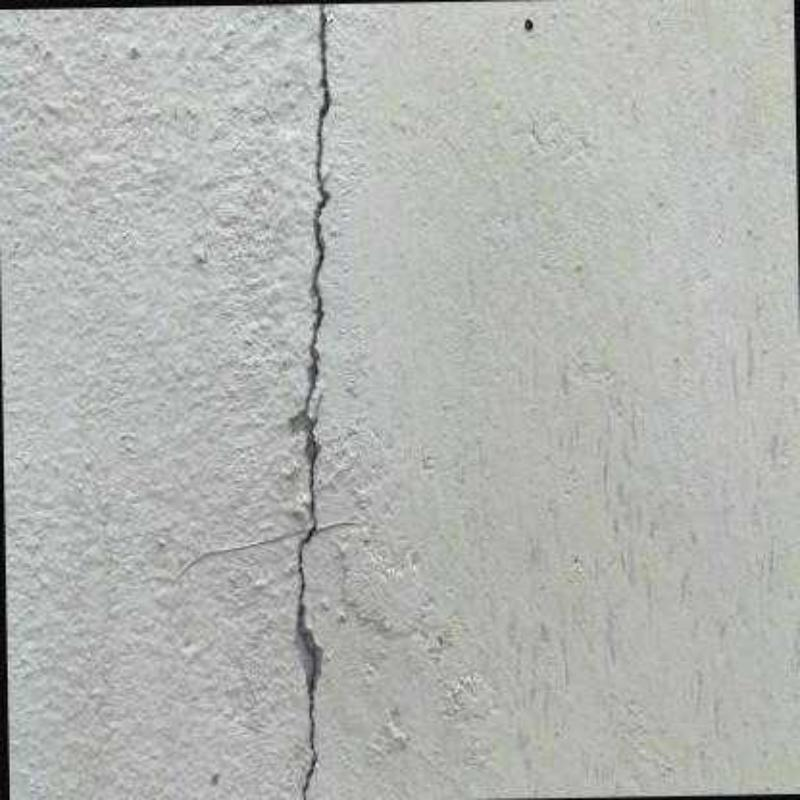pothole: (298, 4, 333, 798)
